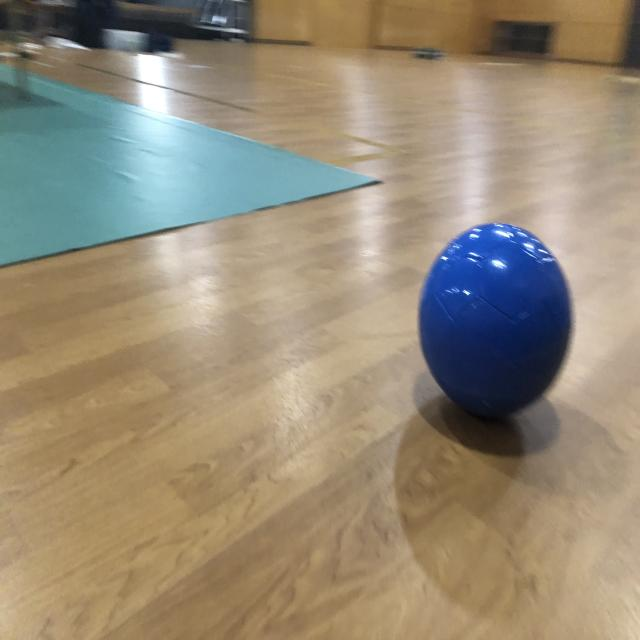blue_ball: (423, 204, 570, 429)
